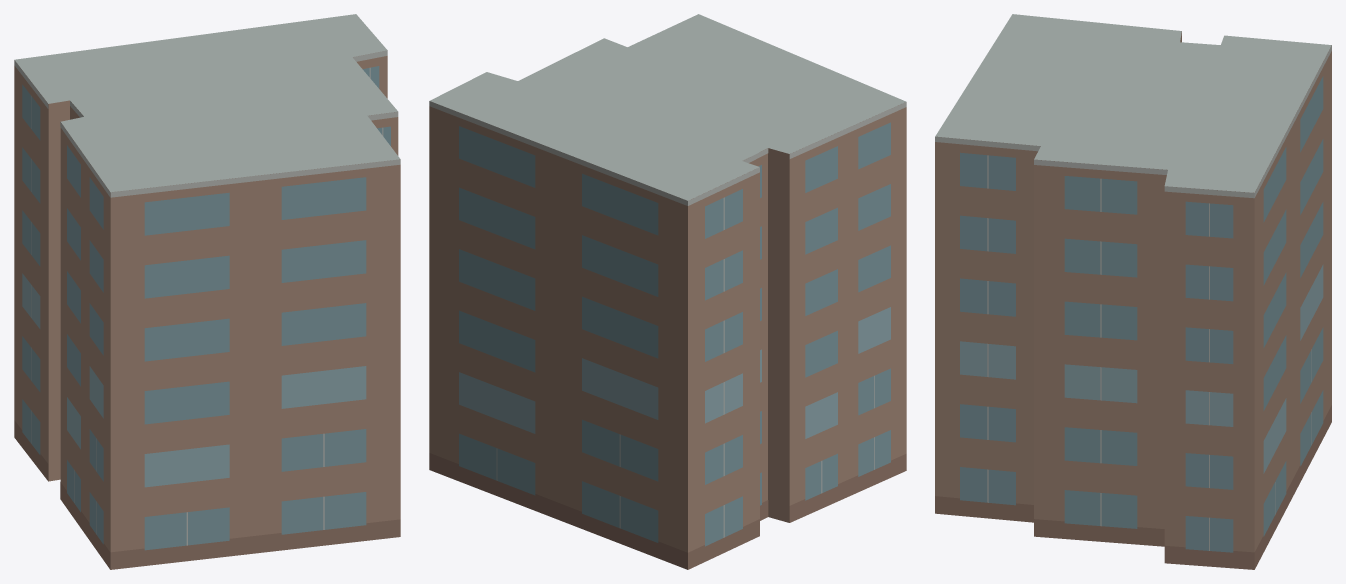
File: survey-upis-32652600.glb
The picture shows the model from 3 angles, left to right: view 1: azimuth 30°, elevation 25°; view 2: azimuth 150°, elevation 25°; view 3: azimuth 270°, elevation 25°; orthographic projection. The views are drawn at different scales.
Visible parts, largest first — view 1: survey-upis-32652600.tmp; view 2: survey-upis-32652600.tmp; view 3: survey-upis-32652600.tmp.
Part boxes in pixels (box(x1,y1,x2,y2)): survey-upis-32652600.tmp: box(14, 14, 400, 569); survey-upis-32652600.tmp: box(429, 14, 906, 569); survey-upis-32652600.tmp: box(935, 14, 1331, 569).
Size of the model in its own units: 17.3 by 17 by 16.22.
